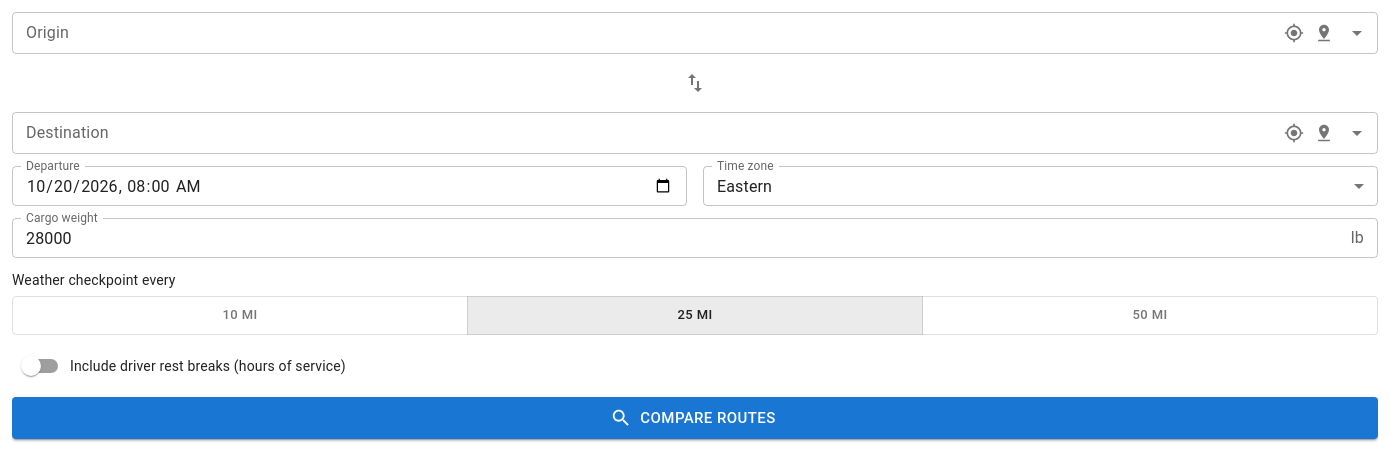
Test: RouteForm › fills the origin from the device position
Click the button named "use my current location as origin". click: (1294, 33)
box: top-left (1279, 18), bottom-right (1309, 48)
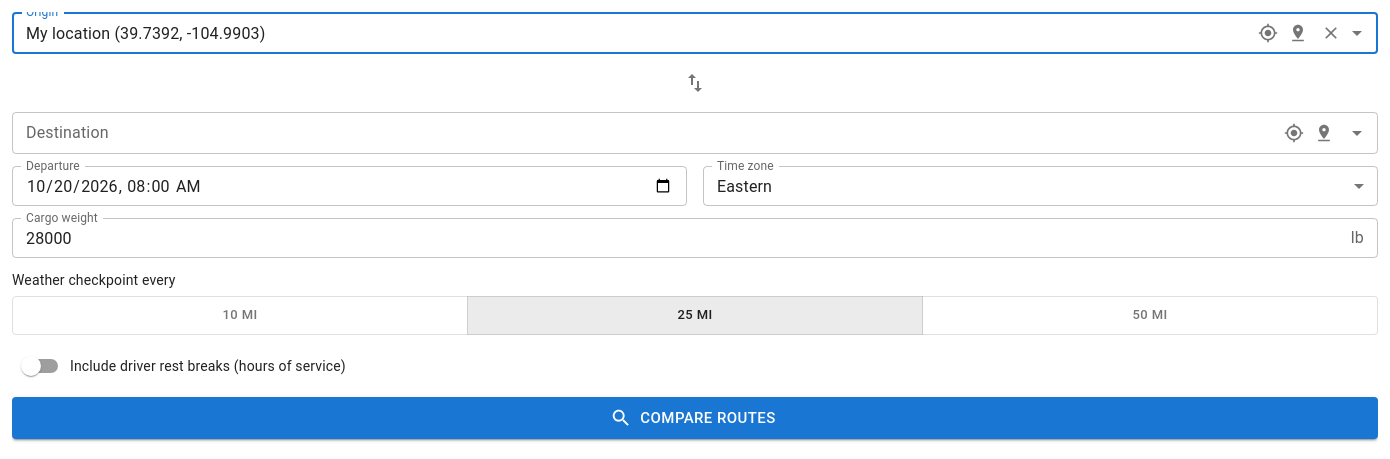
Expected: the dropdown labelled "Origin" holds "My location (39.7392, -104.9903)", top-left (18, 19), bottom-right (1245, 47)
